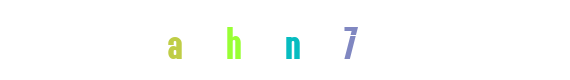7: (310, 0, 390, 80)
A: (168, 0, 248, 80)
H: (245, 0, 325, 80)
N: (252, 0, 332, 80)
